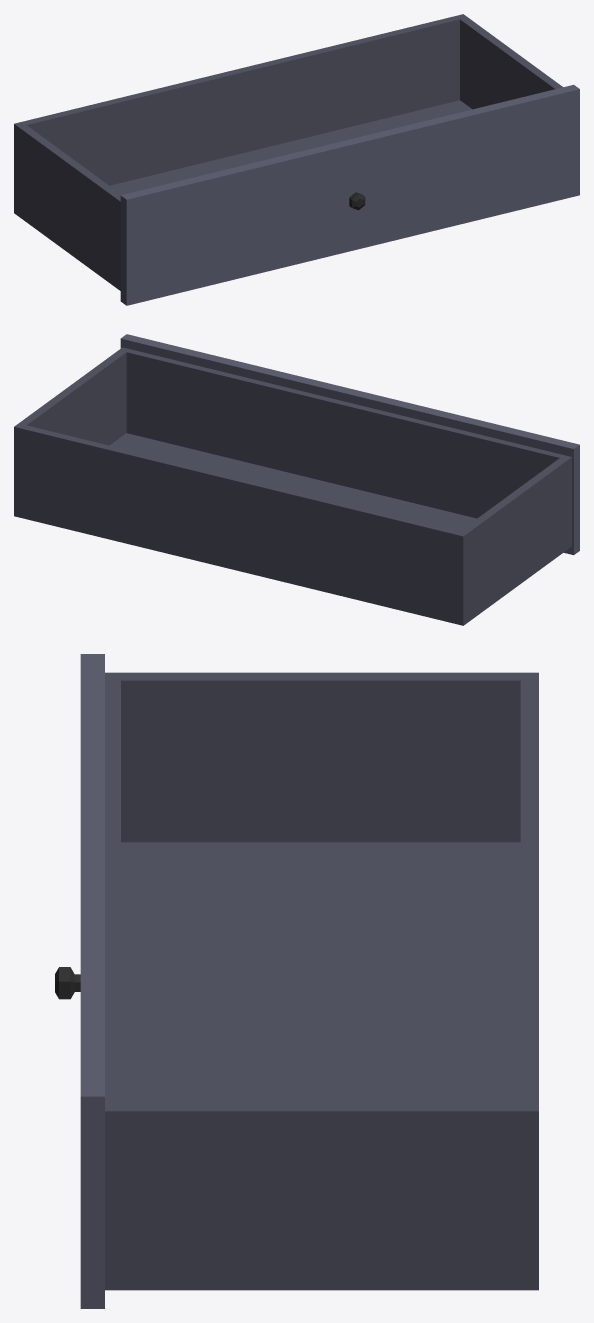
File: Dresser3_C2_02.fbx
The picture shows the model from 3 angles, top to bottom: view 1: azimuth 30°, elevation 25°; view 2: azimuth 150°, elevation 25°; view 3: azimuth 270°, elevation 25°; orthographic projection. The views are drawn at different scales.
Parts seen in each view (by area): view 1: Dresser3_C2_02; view 2: Dresser3_C2_02; view 3: Dresser3_C2_02.
Boxes of the visible parts, box(x1,y1,x2,y2) form: Dresser3_C2_02: box(14, 14, 579, 305); Dresser3_C2_02: box(14, 334, 579, 625); Dresser3_C2_02: box(55, 654, 538, 1308).
Bounding box in the file's own units: 85.7 × 19.18 × 39.65.
